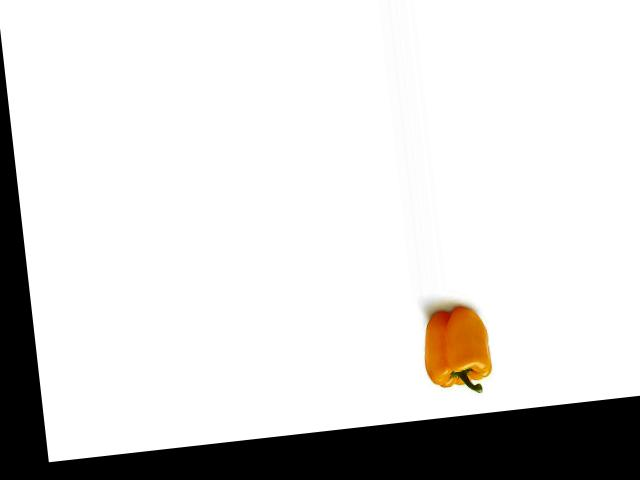bell_pepper: (418, 302, 503, 402)
